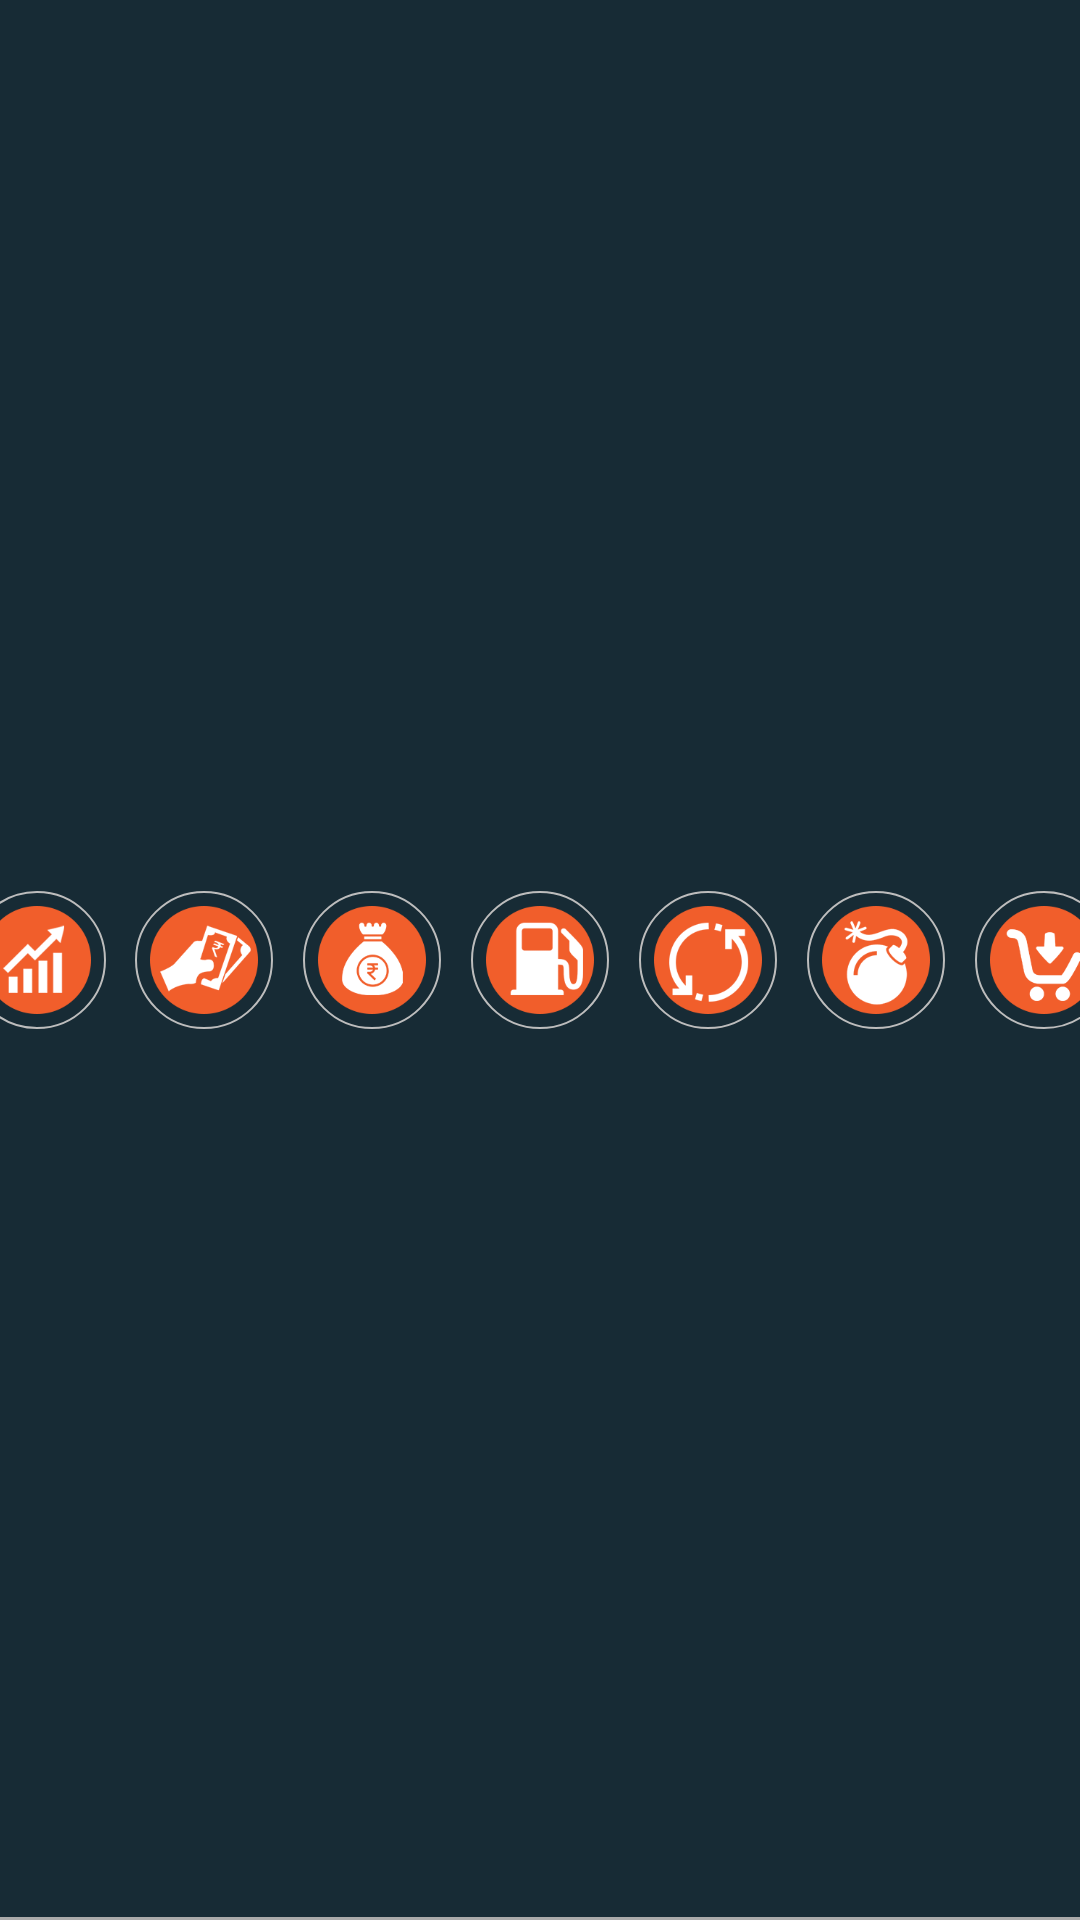

Named icons in this screenshot (1080px×1920px) and their centers, point (x, y):
collection: point (372, 960)
expense: point (204, 960)
fuel: point (540, 960)
